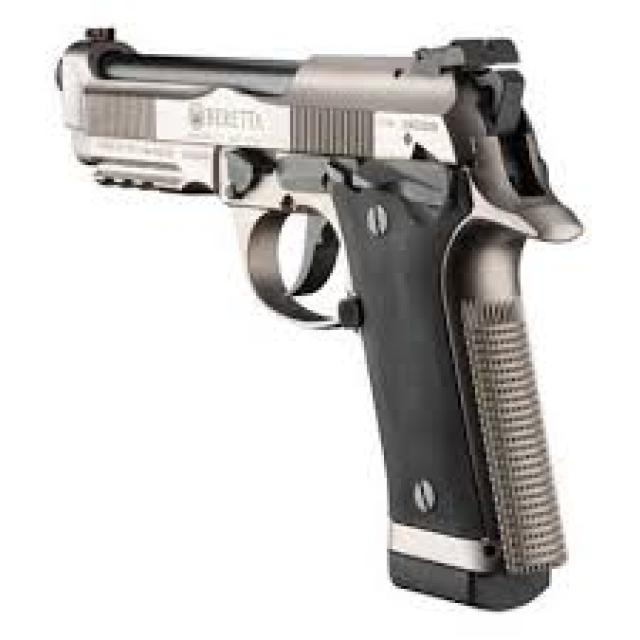pistol: (48, 22, 589, 612)
